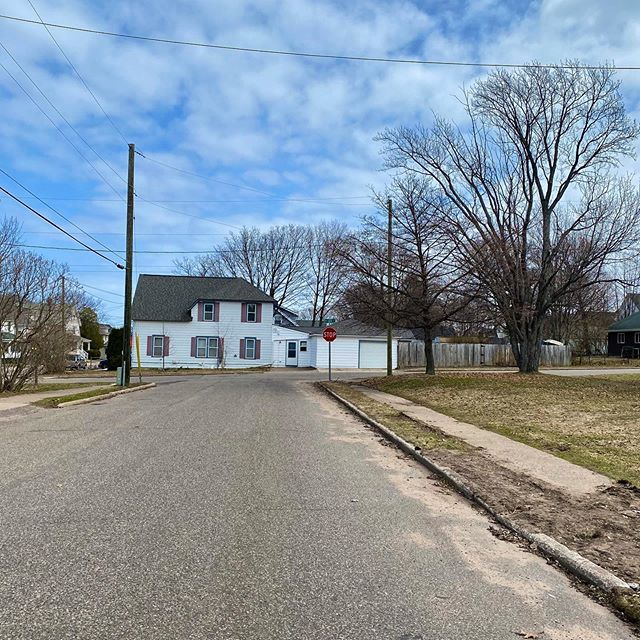building: (127, 269, 287, 371)
grass: (402, 368, 640, 465)
sky: (14, 1, 453, 243)
street: (12, 380, 555, 640)
tree: (392, 56, 625, 392), (362, 208, 484, 382), (223, 227, 355, 324)
